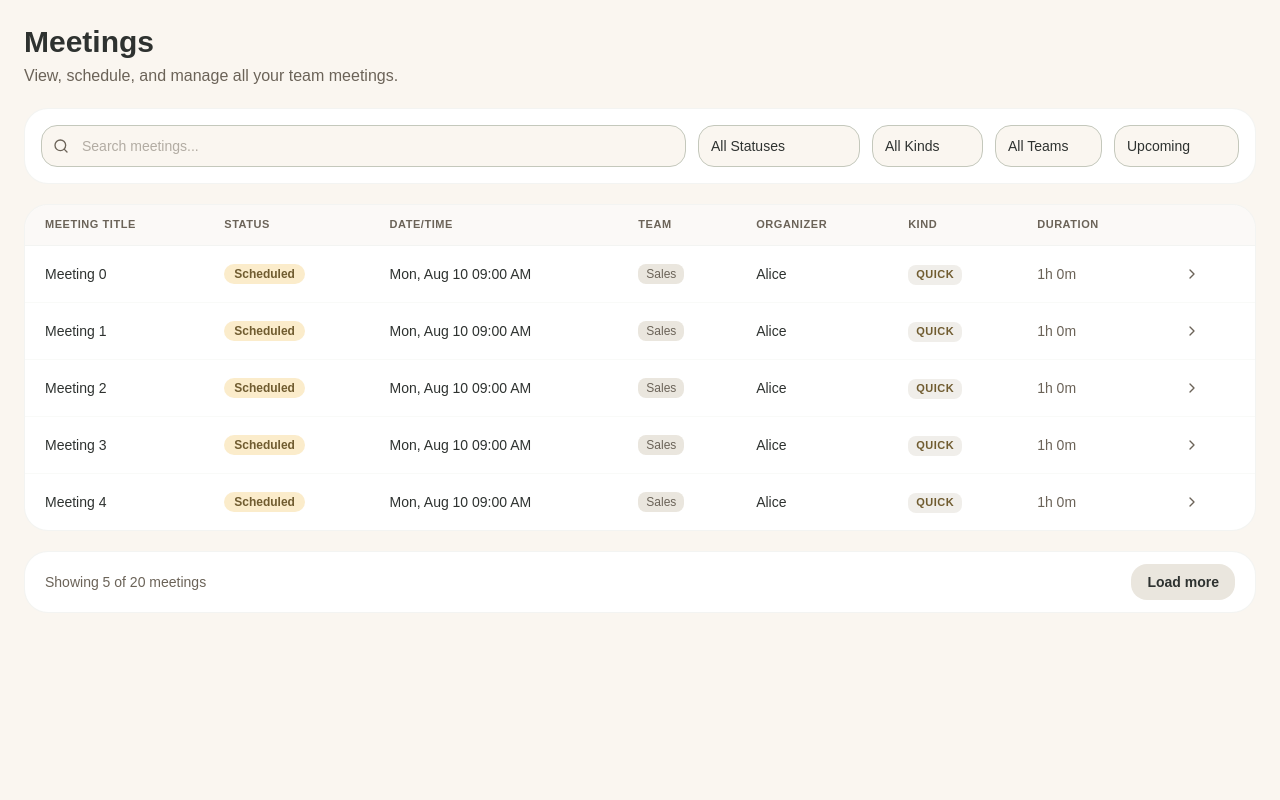
it: Phase 6.2 — Browse & Calendar Day › 3. Filters reset pagination
expect the link "Meeting 0" is shown: met, box [45,266,106,282]
Select "Draft" in the 1st dropdown: (779, 146) [698,125,860,167]
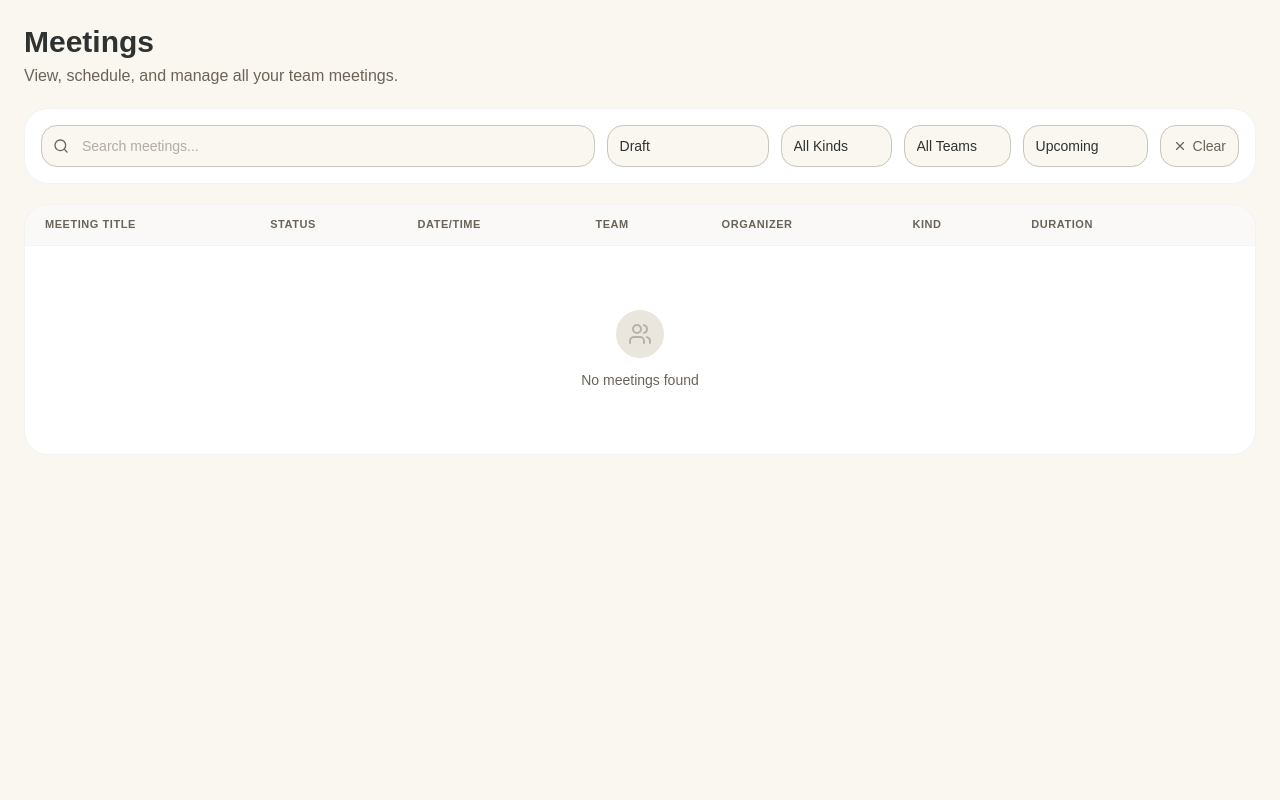
expect the text "No meetings found" is shown: met, box [581,372,699,388]
